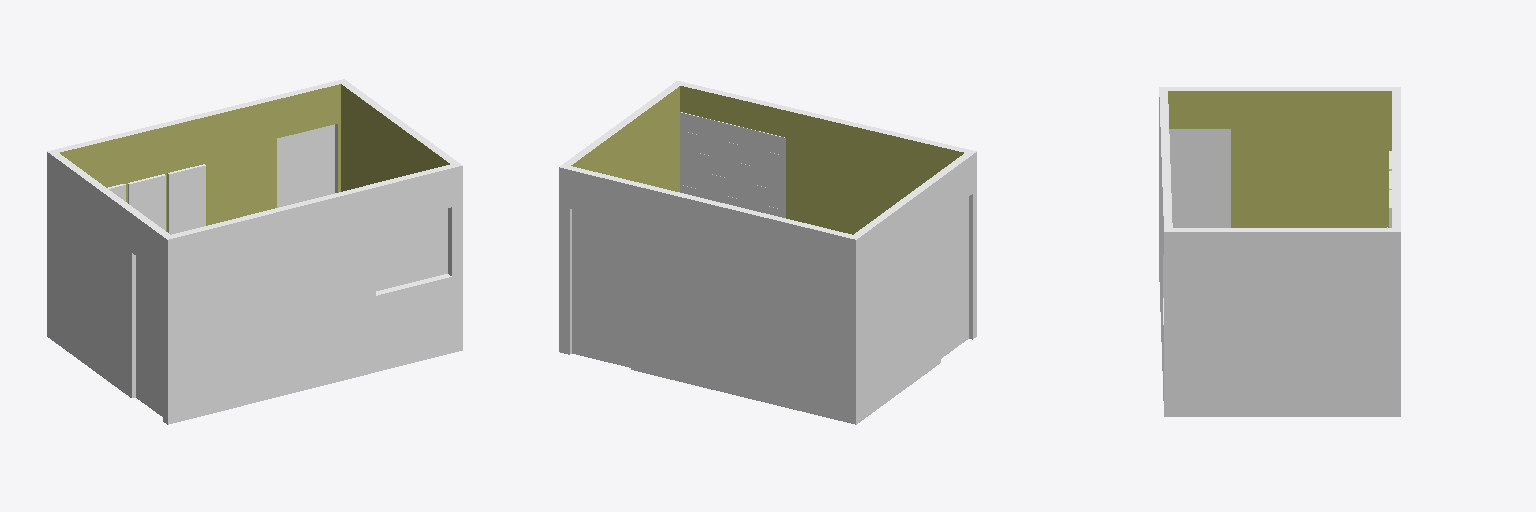
3 views of the same model, side by side, from view 1: azimuth 30°, elevation 25°; view 2: azimuth 150°, elevation 25°; view 3: azimuth 270°, elevation 25° (orthographic).
Parts seen in each view (by area): view 1: Layer0_001, Group_005, Group_008, Group_007; view 2: Layer0_001, Group_005; view 3: Layer0_001.
Part boxes in pixels (x1,y1,x2,y2): Layer0_001: (47,79,462,424); Group_005: (376,208,447,290); Group_008: (167,164,205,234); Group_007: (128,174,165,230); Layer0_001: (559,81,976,424); Group_005: (680,112,785,217); Layer0_001: (1159,87,1400,416).
Bounding box in the file's own units: 176 × 109 × 124.